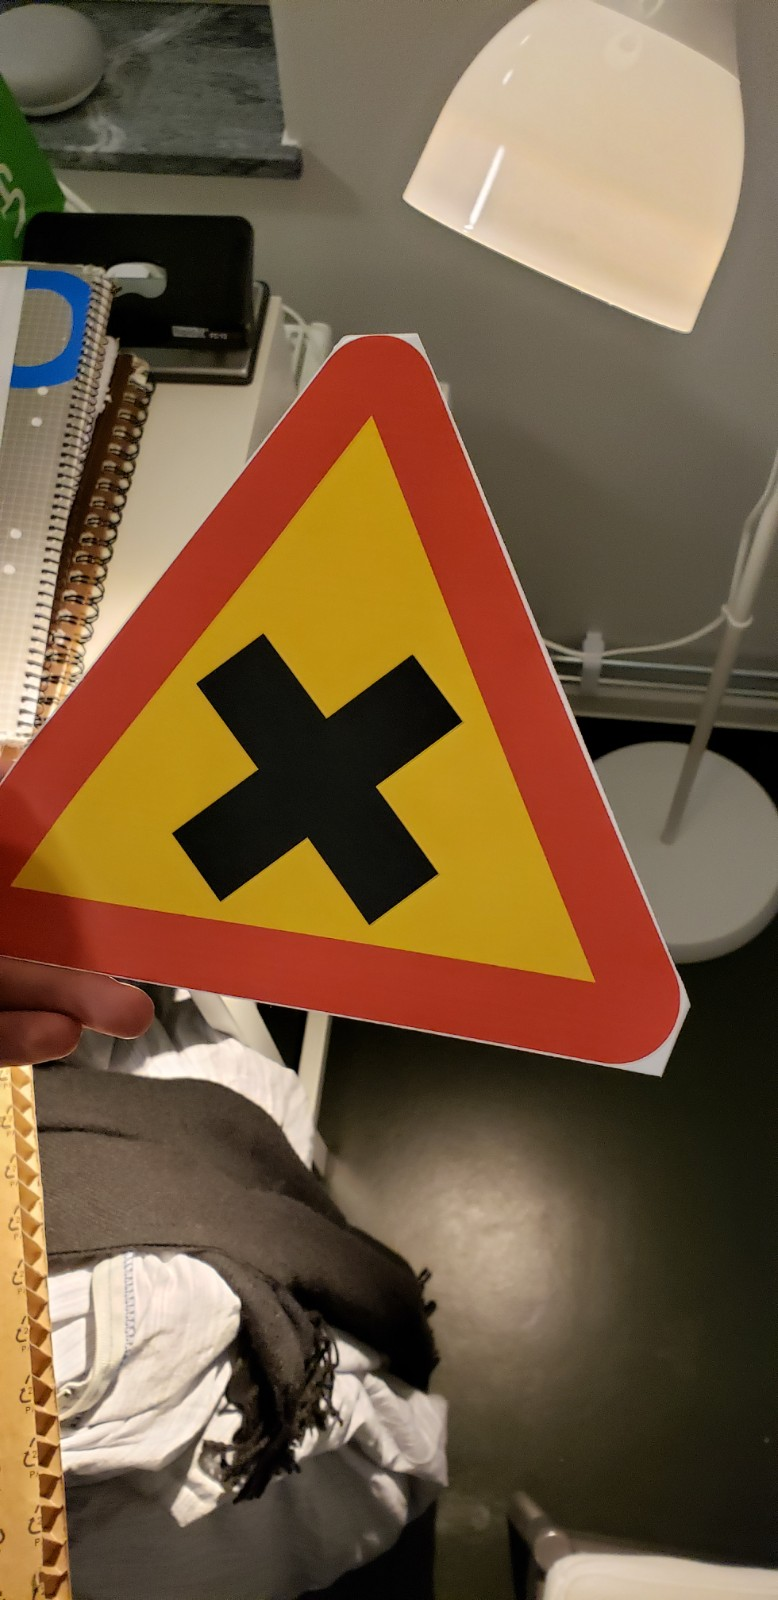junction: (1, 320, 722, 1095)
